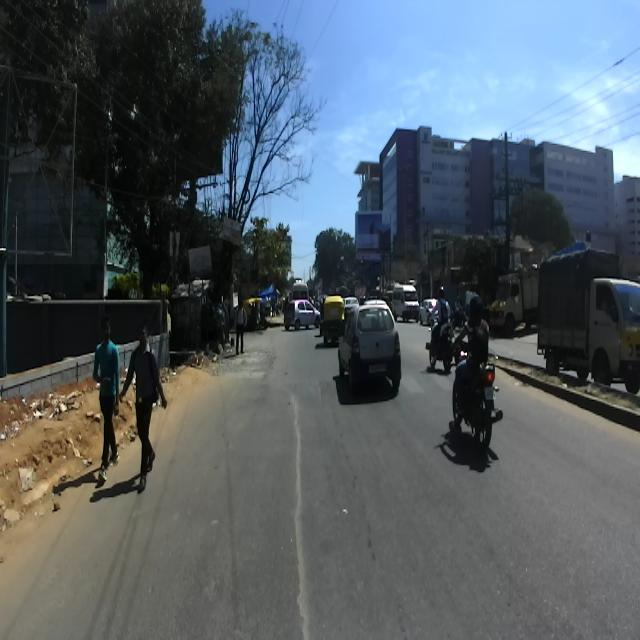car ahead at: (338, 294, 408, 406)
motorcycle ahead at: (442, 352, 502, 450)
person ahead at: (116, 317, 169, 499), (88, 315, 128, 485)
